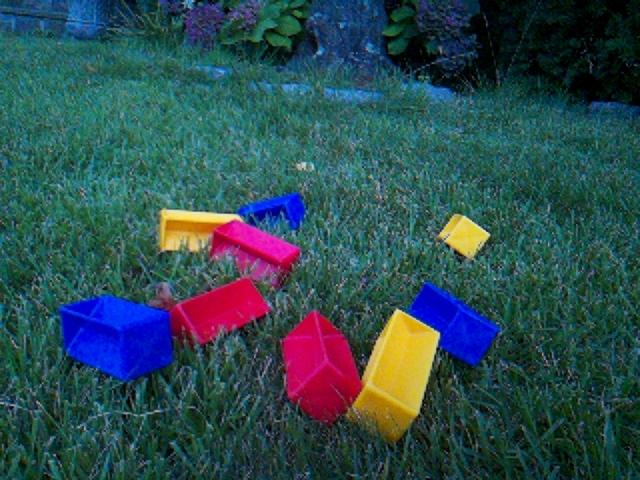blue: (57, 293, 176, 383), (406, 280, 502, 368), (236, 190, 307, 233)
red: (280, 309, 364, 425), (169, 277, 272, 349), (209, 218, 302, 290)
yellow: (344, 307, 442, 444), (158, 207, 244, 255), (437, 212, 492, 261)
